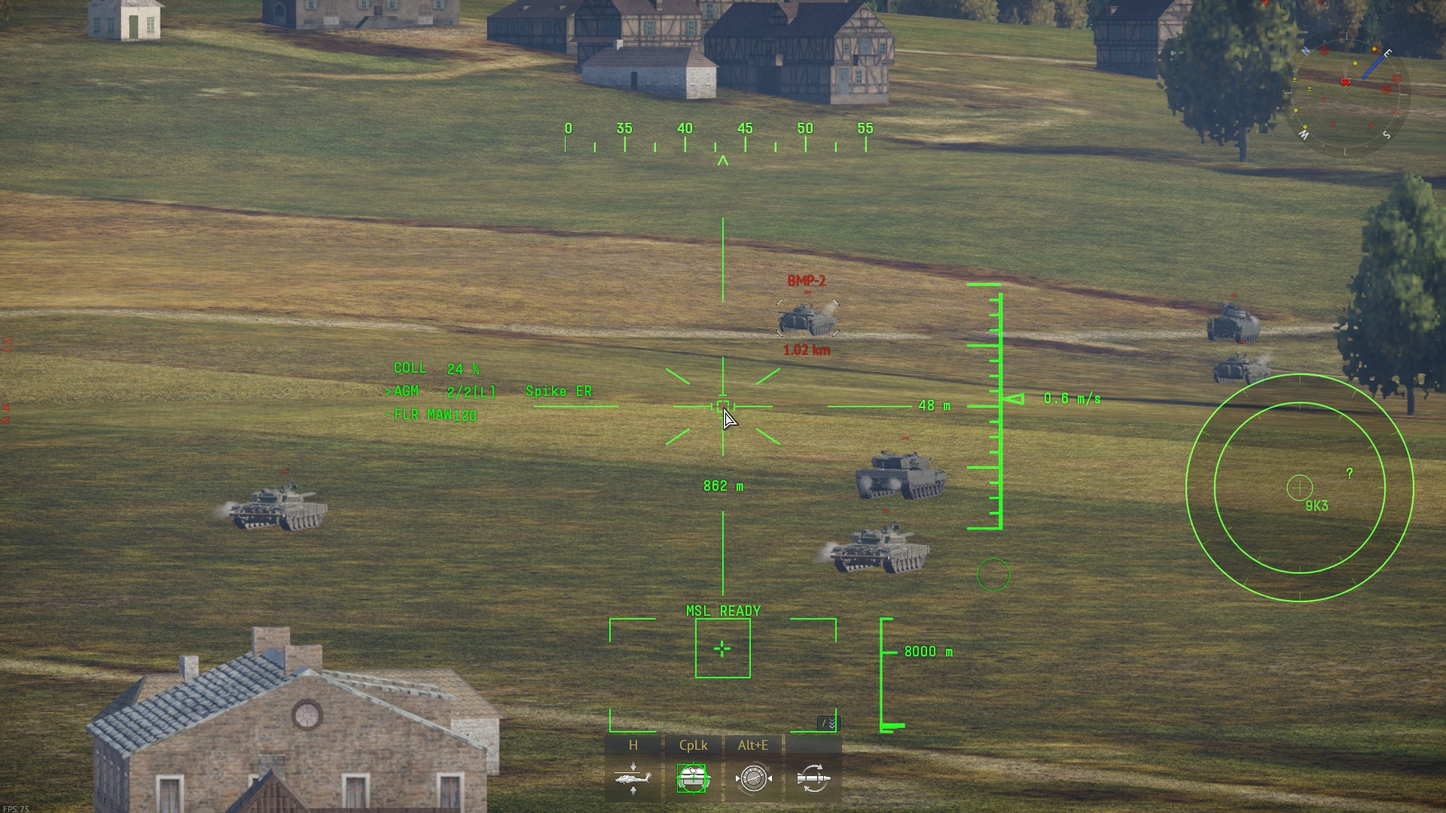bmp2: (778, 304, 837, 335)
leopard2: (855, 450, 947, 501), (1212, 352, 1272, 385)
t72b: (830, 524, 930, 575), (228, 482, 328, 532)
